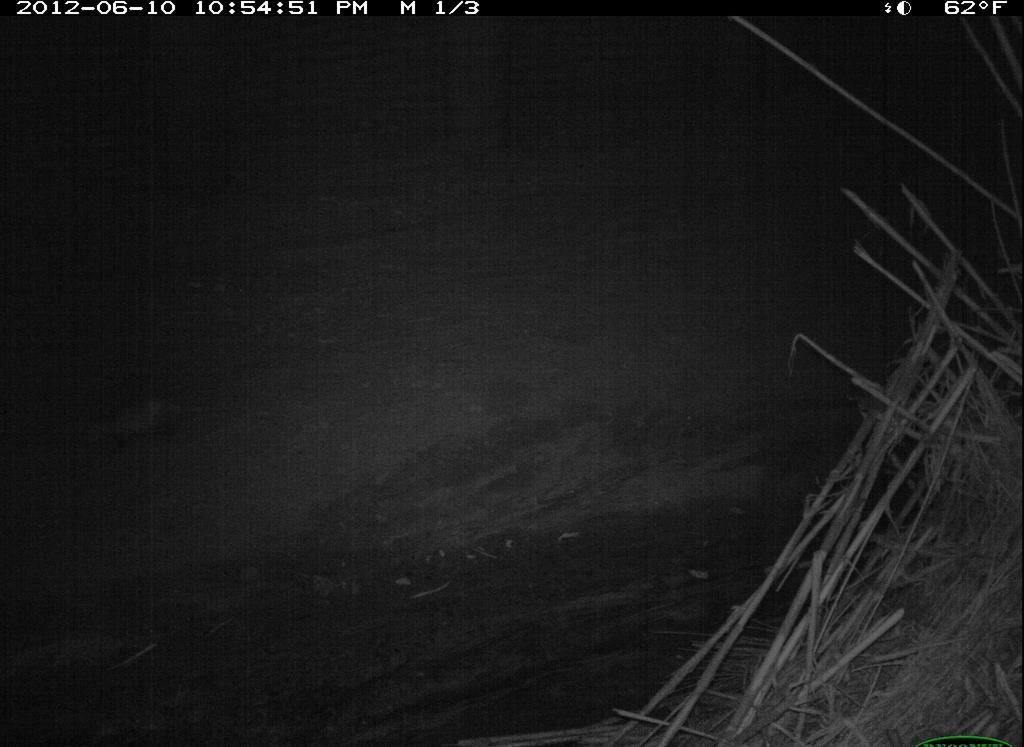opossum: (75, 385, 245, 468)
